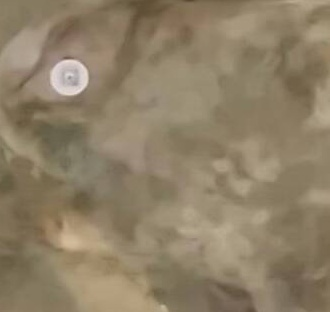text: (39, 40, 111, 108)
